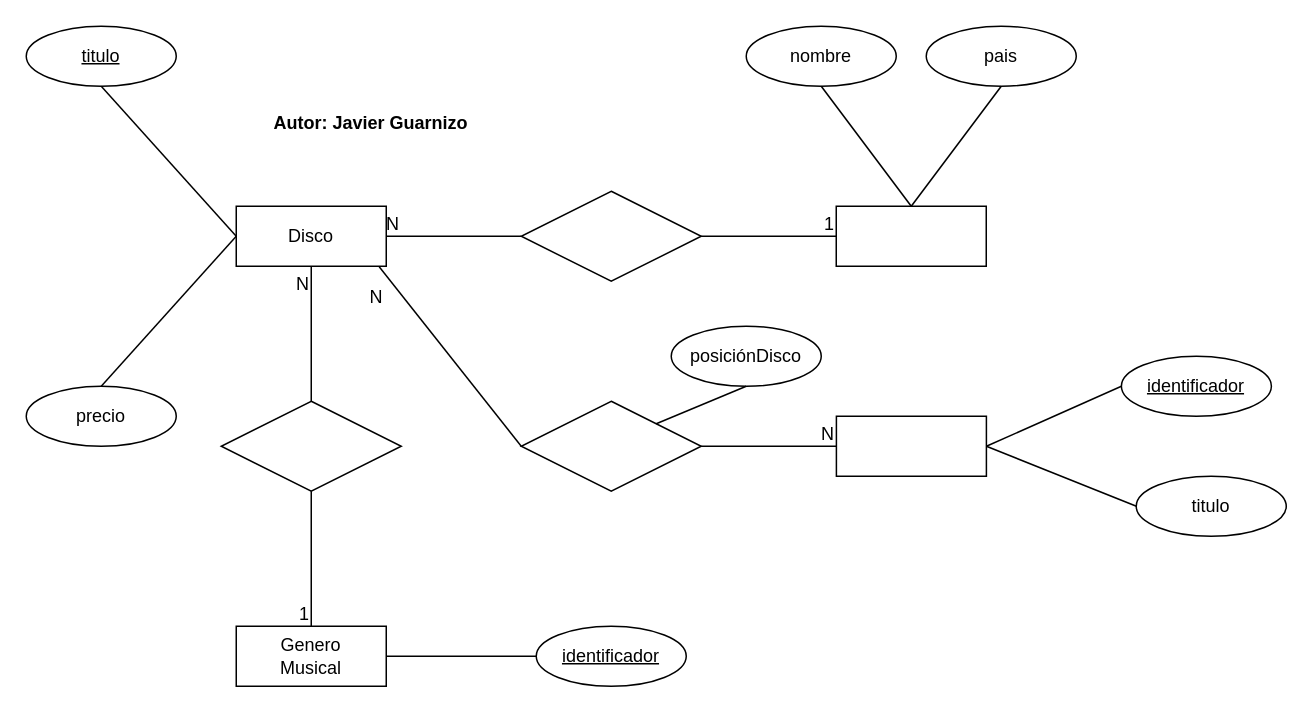
The diagram is 1313 pixels wide and 713 high, and some of its shapes have lost their labels. The shapes that lost their labels are listed below. From the top down, each one's centre as x and y in pixels, then its label:
(610,235): es lanzado
(910,235): Cantante
(310,445): pertenece
(610,445): tiene guardada
(910,445): Cancion
